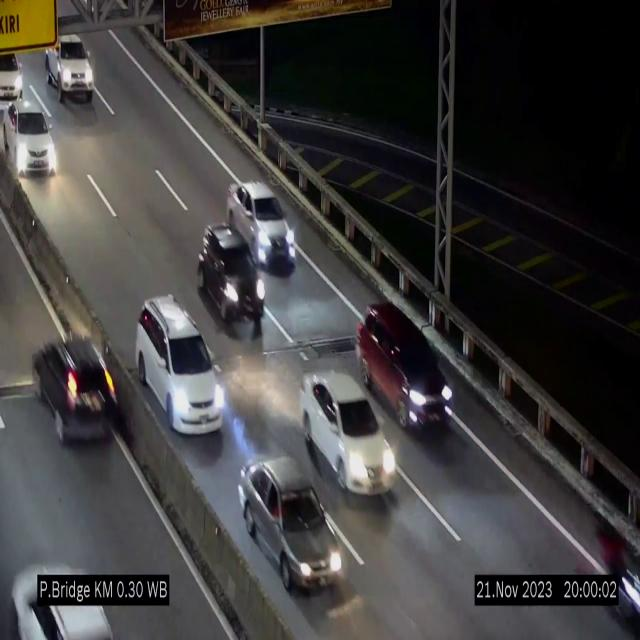Car: (240, 455, 346, 601), (359, 291, 455, 439), (136, 296, 230, 438), (301, 371, 398, 496), (196, 214, 266, 332), (228, 180, 296, 270), (3, 98, 62, 185), (45, 34, 95, 104)
